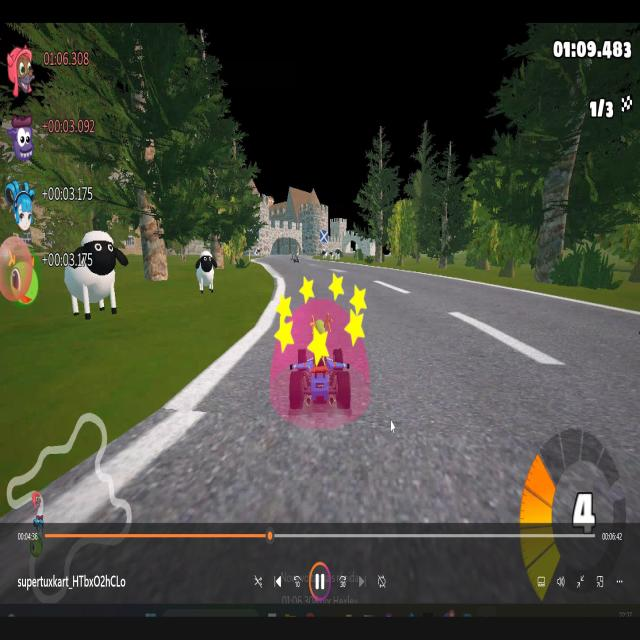enemy_kart: (292, 252, 301, 264)
off_track: (118, 237, 254, 328)
player_kart: (272, 296, 370, 425)
